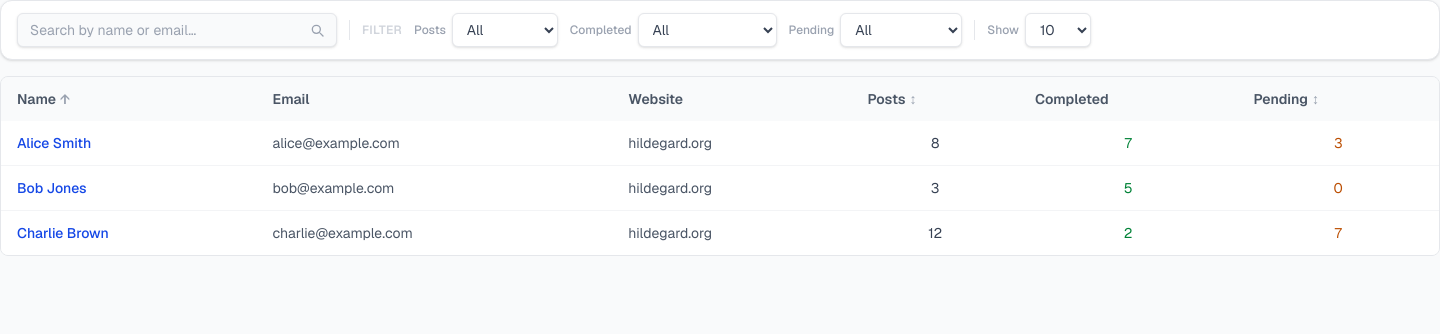
Test: UsersClient › filters by no-completed via Completed dropdown — shows empty state
Select "No completed" in the dropdown labelled "Completed" at (707, 30), box [638, 13, 777, 47]
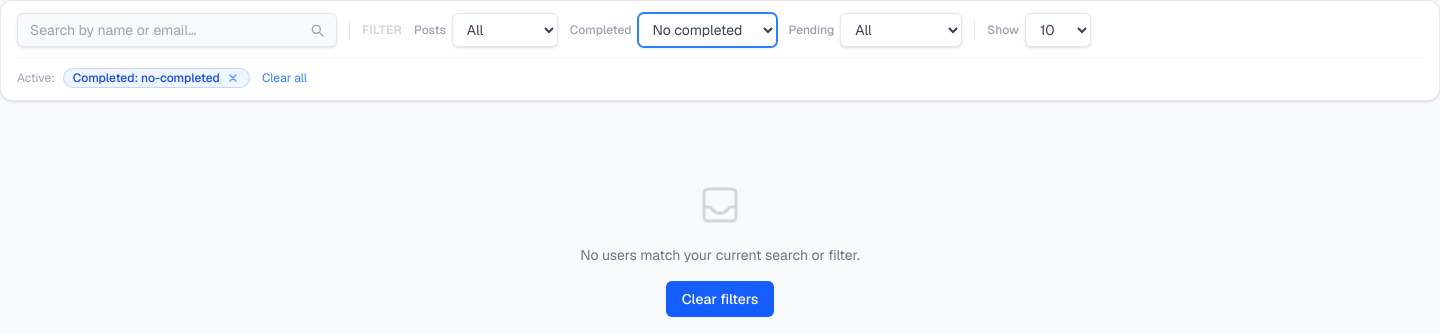
Result: the text "No users match your current search or filter." is shown at [580, 245, 860, 265]
